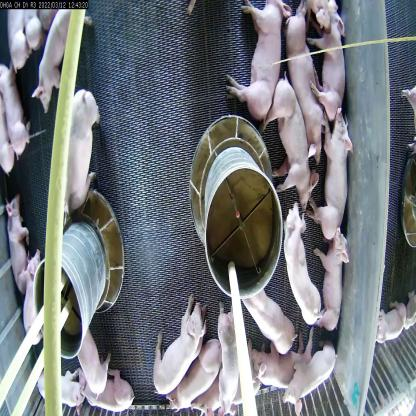Pig: (58, 82, 99, 250), (282, 5, 323, 166), (231, 0, 278, 125), (144, 302, 204, 390), (37, 0, 84, 108), (305, 0, 345, 122), (173, 336, 232, 416), (316, 113, 352, 239), (218, 298, 255, 415), (62, 361, 136, 416), (283, 344, 340, 415), (284, 196, 314, 327), (272, 76, 304, 190), (237, 336, 292, 402), (242, 271, 285, 343), (320, 213, 343, 344), (73, 313, 107, 379), (0, 201, 28, 280), (16, 263, 42, 344)
